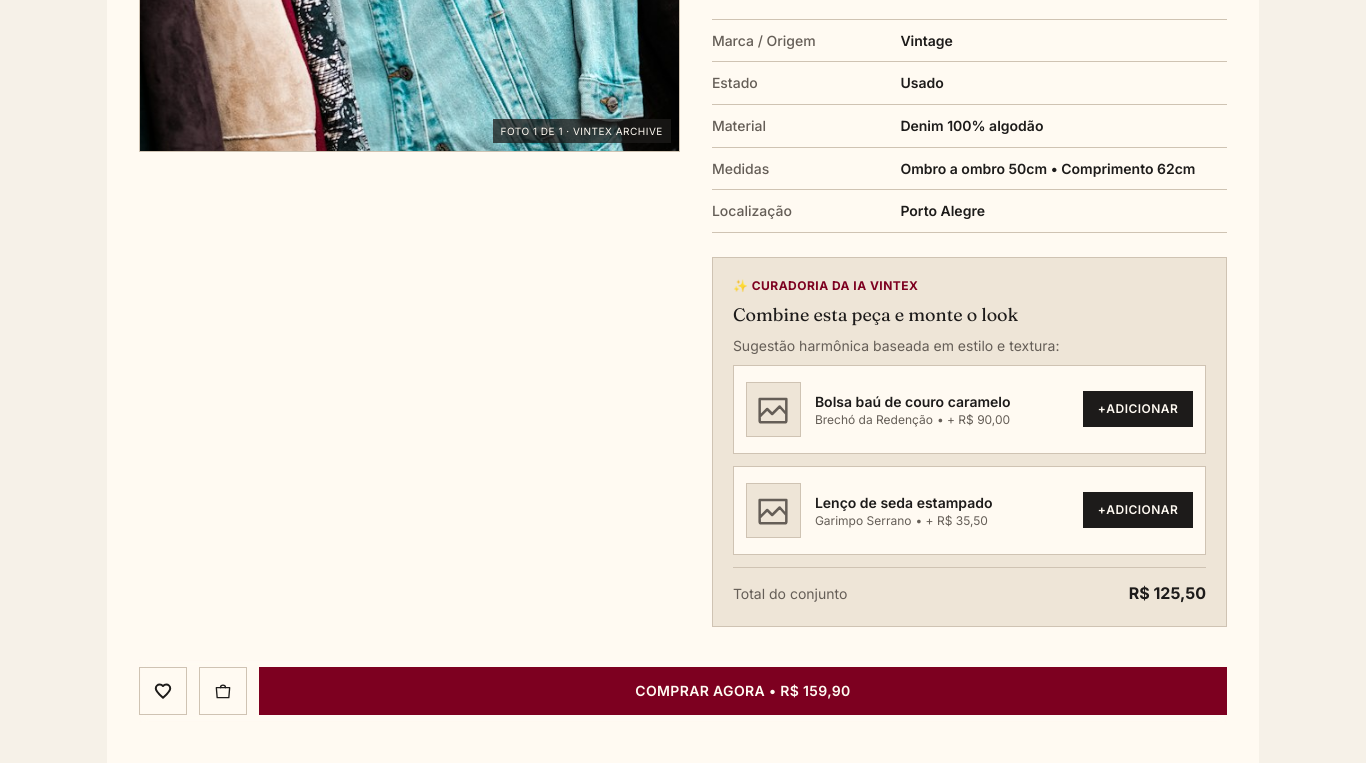
<ProductDetail /> › Combine e monte o look (FE-US030-1, #412) › logado: falha ao adicionar a peça sugerida mostra o toast de erro
(page scrolled)
What coordinates should you click on to do the following:
click the button named "Adicionar Bolsa baú de couro caramelo à sacola"
I would click on:
 (1138, 410)
Its box is [1083,392,1193,428].
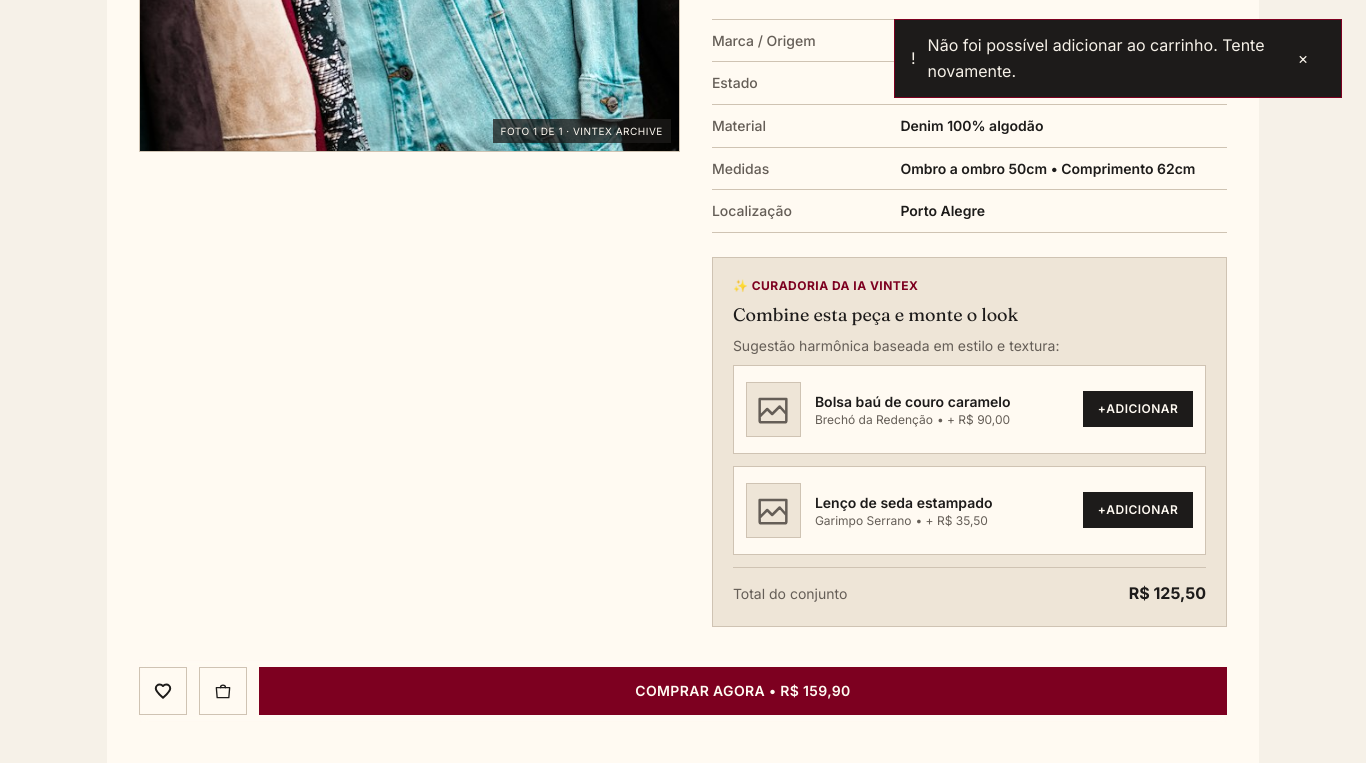
Check: the text "Não foi possível adicionar ao carrinho. Tente novamente." is shown, box [928,32,1269,85]
